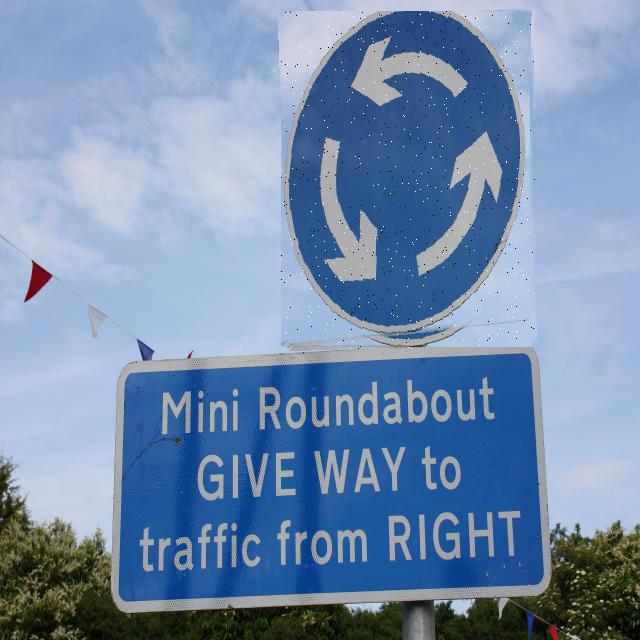roundabout: (281, 11, 535, 349)
